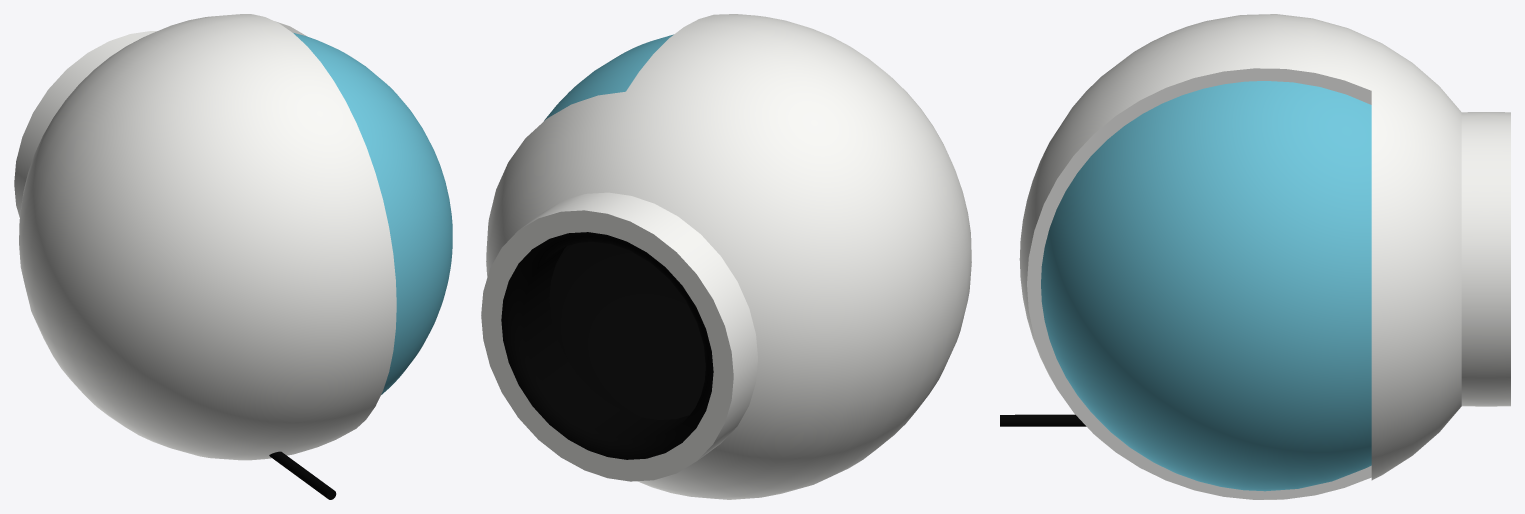
Rendered from SpaceHelmet v1.fbx.
The picture shows the model from 3 angles, left to right: view 1: azimuth 30°, elevation 25°; view 2: azimuth 150°, elevation 25°; view 3: azimuth 270°, elevation 25°; orthographic projection. The views are drawn at different scales.
Parts seen in each view (by area): view 1: Body1; view 2: Body1; view 3: Body1.
Boxes of the visible parts, box(x1,y1,x2,y2) form: Body1: box(14, 14, 452, 499); Body1: box(481, 14, 971, 499); Body1: box(1000, 14, 1510, 499).
Bounding box in the file's own units: 243 × 250 × 260.
